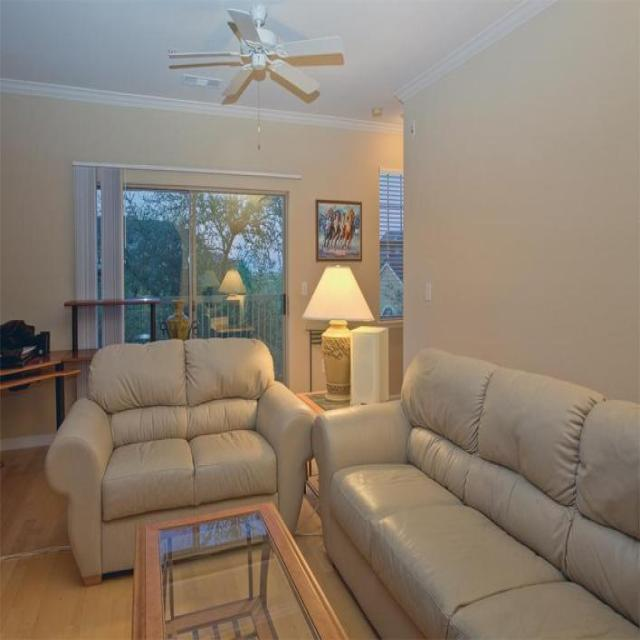sofa: (311, 345, 639, 639), (44, 335, 314, 585)
table-lamp: (301, 262, 374, 402), (217, 268, 246, 328)
windows: (378, 166, 403, 319)
